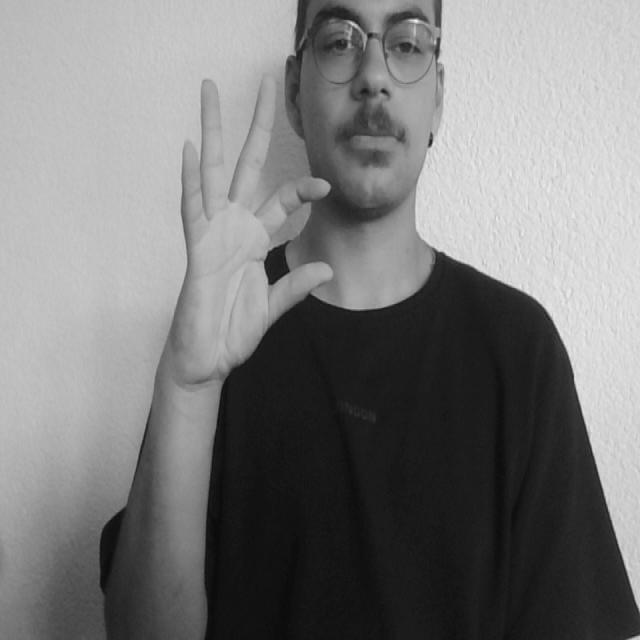Tuvalet: (122, 59, 354, 410)
